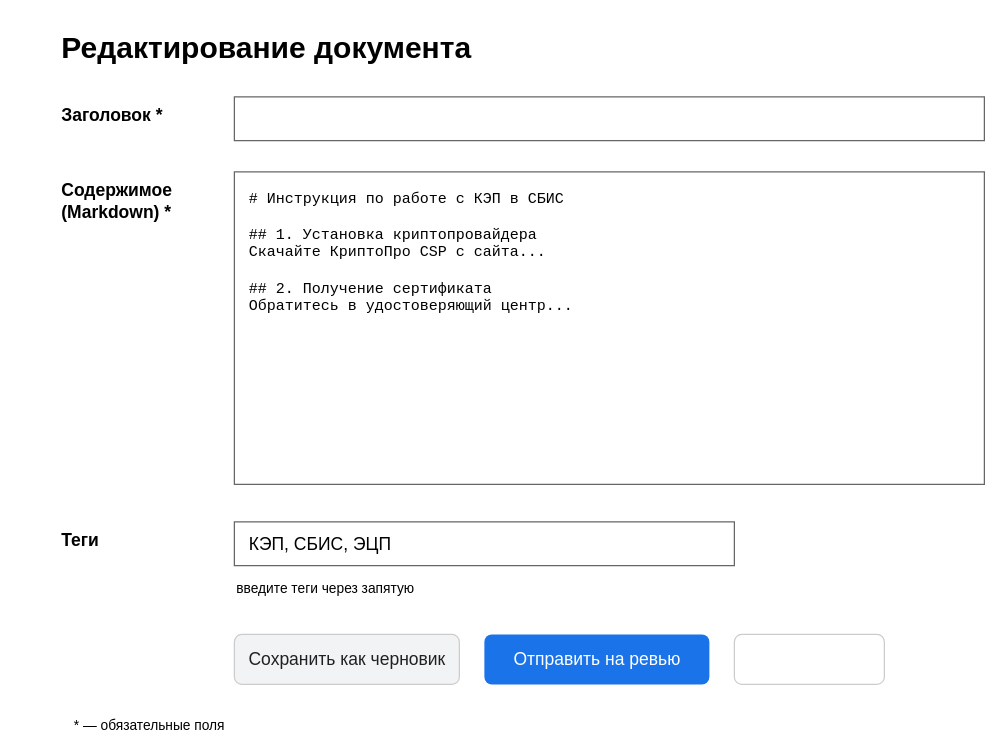
Some shapes in this 1006 by 755 pixel diagram are drawn without their labels. Here are the shapes that lost their labels. From the top down, the box of each, then its label:
(233, 96, 984, 141): Инструкция по работе с КЭП в СБИС
(733, 633, 884, 684): Отмена
